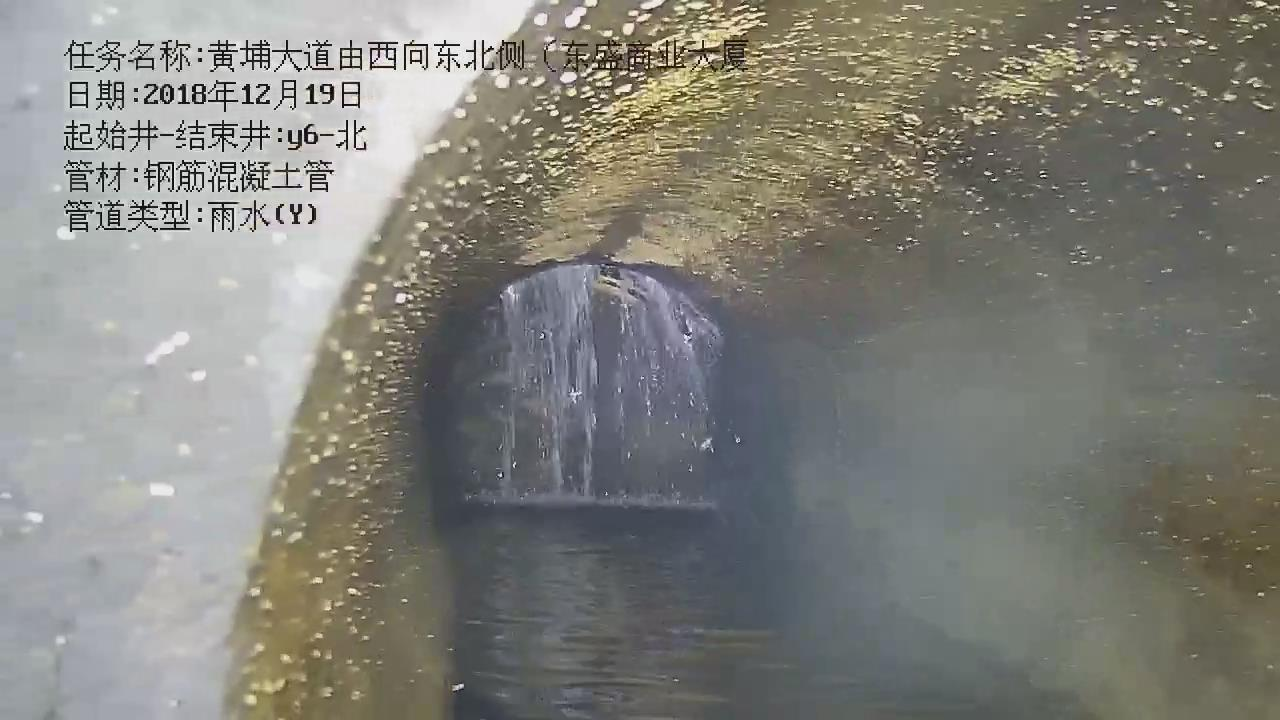SL: (474, 268, 732, 508)
